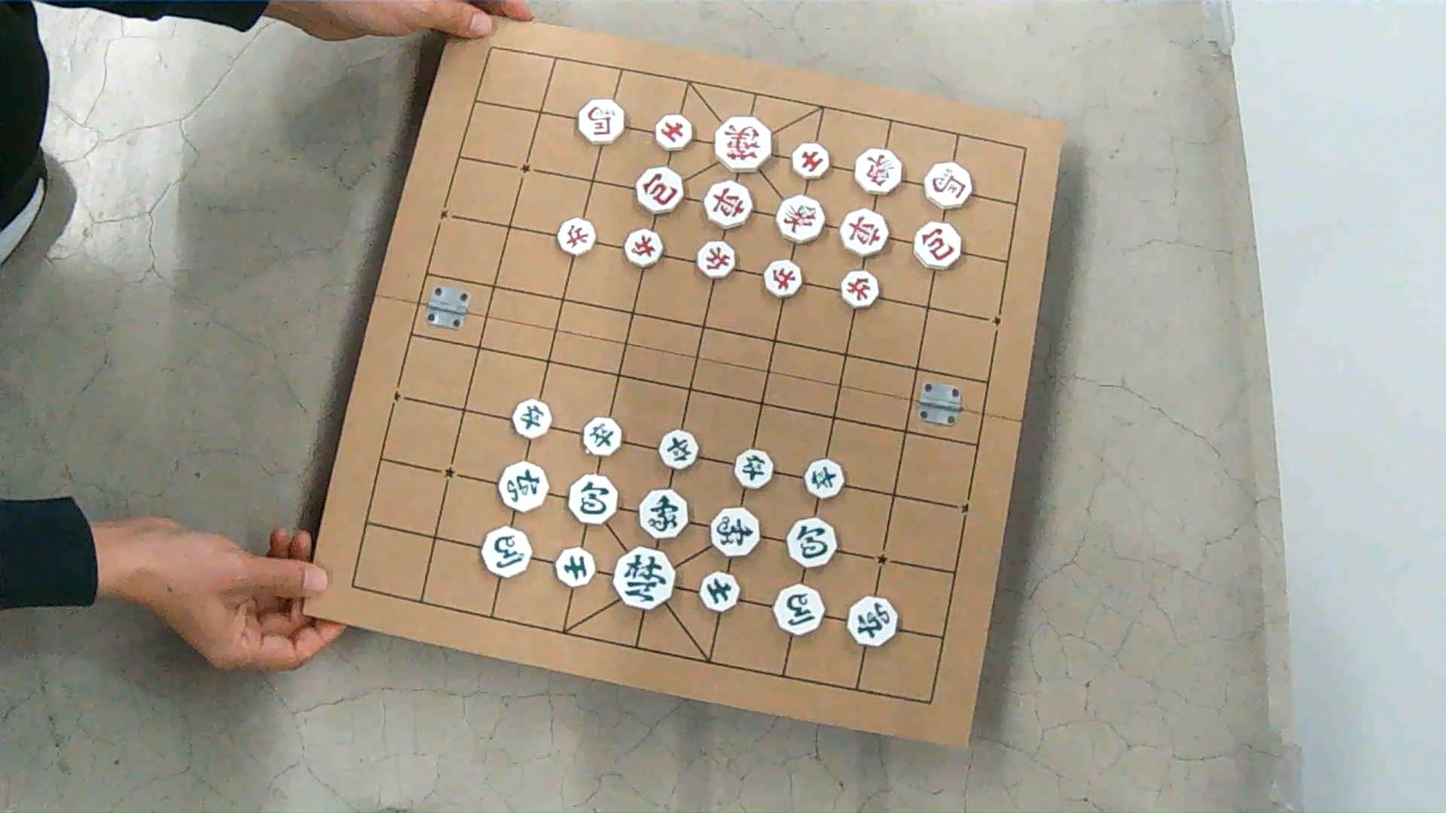cha_green: (848, 596, 898, 646), (499, 461, 548, 512)
cha_red: (840, 209, 888, 257), (704, 181, 751, 229)
jol_green: (804, 459, 844, 498), (512, 399, 551, 438), (582, 417, 621, 456), (734, 449, 772, 489), (659, 430, 697, 469)
jol_red: (697, 241, 735, 279), (624, 229, 662, 267), (841, 270, 879, 308), (764, 260, 802, 297), (557, 218, 595, 255)
ma_green: (773, 584, 823, 635), (482, 527, 531, 577)
ma_red: (923, 162, 972, 209), (578, 99, 624, 145)
po_green: (569, 474, 618, 524), (788, 519, 837, 568)
po_red: (914, 222, 961, 269), (635, 167, 682, 214)
sa_green: (700, 571, 739, 612), (555, 547, 595, 586)
sa_red: (654, 114, 693, 151), (792, 143, 829, 179)
sang_green: (639, 489, 687, 538), (711, 507, 758, 556)
sang_red: (776, 195, 825, 243), (854, 148, 901, 195)
wang_green: (613, 547, 675, 610)
wang_red: (715, 116, 771, 172)
